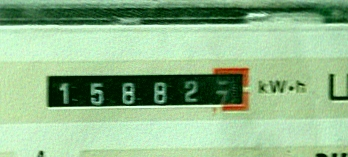1: (58, 81, 72, 106)
2: (184, 78, 200, 104)
5: (89, 81, 105, 106)
7: (215, 88, 229, 104)
8: (120, 81, 137, 105), (152, 79, 168, 104)
screen: (34, 61, 260, 121)
